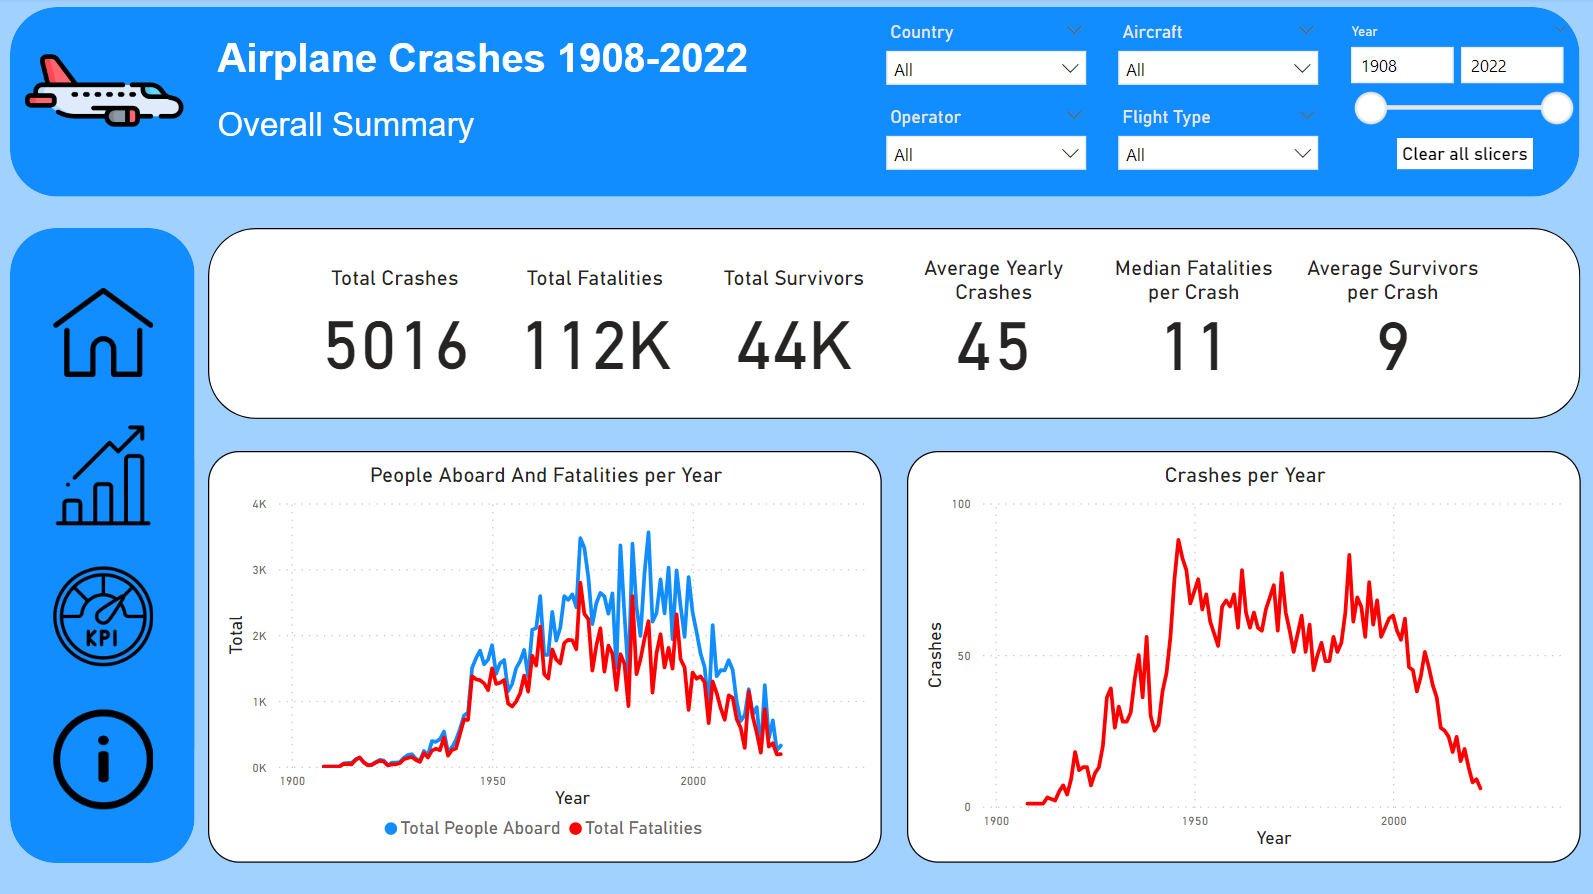

This screenshot's page, from the dashboard's own definition file:
{"tool":"powerbi","page":{"name":"Overall","canvas":[1280,720],"ordinal":0},"visuals":[{"type":"shape","box":[10,7,1258,152],"z":0},{"type":"card","title":"Total Fatalities","fields":{"Values":["Sum(Data.Fatalities)"]},"box":[398,214.3,160,100],"z":0,"group":"g1"},{"type":"image","box":[39,222,89.8,91.2],"z":0,"group":"g3"},{"type":"lineChart","title":"People Aboard And Fatalities per Year","fields":{"Y":["Sum(Data.Aboard)","Sum(Data.Fatalities)"],"Category":["Calendar.Year"]},"box":[168,363,540,330],"z":0,"group":"g2"},{"type":"shape","box":[10,184,148,509],"z":1000},{"type":"card","title":"Total Crashes","fields":{"Values":["Data.Total Crashes"]},"box":[238,214.3,160,100],"z":1000,"group":"g1"},{"type":"lineChart","title":"Crashes by Year","fields":{"Y":["Data.Total Crashes"],"Category":["Calendar.Year"]},"box":[728,363,540,330],"z":1000,"group":"g2"},{"type":"slicer","fields":{"Values":["clean (2).Country"]},"box":[701.7,14.6,179.8,60.3],"z":2000},{"type":"card","title":"Total Survivors","fields":{"Values":["Sum(Data.Survivors)"]},"box":[558,214.1,160,100],"z":2000,"group":"g1"},{"type":"image","box":[39,450,89.8,91.2],"z":2000,"group":"g3"},{"type":"slicer","fields":{"Values":["clean (2).Operator"]},"box":[701.7,82.6,179.8,60.3],"z":3000},{"type":"card","title":"Average Survivors per Crash","fields":{"Values":["Avg(Data.Survivors)"]},"box":[1038,206,160,100],"z":3000,"group":"g1"},{"type":"image","box":[39,337,90,91],"z":3000,"group":"g3"},{"type":"slicer","fields":{"Values":["clean (2).AC Type"]},"box":[888.3,14.6,179.8,60.3],"z":4000},{"type":"card","title":"Average Fatalities per Crash","fields":{"Values":["Avg(Data.Fatalities)"]},"box":[878,206,160,100],"z":4000,"group":"g1"},{"type":"image","box":[39.2,564,89.5,91],"z":4000,"group":"g3"},{"type":"shape","box":[168,184,1100,153],"z":5000},{"type":"card","title":"Average Yearly Crashes","fields":{"Values":["Data.Average Crashes"]},"box":[718,206,160,100],"z":5000,"group":"g1"},{"type":"slicer","fields":{"Values":["Calendar.Year"]},"box":[1071.2,15,198.8,98.8],"z":6000},{"type":"slicer","fields":{"Values":["Data.Column"]},"box":[887.9,82.3,180.3,60.8],"z":7000},{"type":"textbox","box":[171,82,228,50],"z":8000},{"type":"actionButton","box":[1121,112,109,25],"z":9000},{"type":"image","box":[14,6,143,137],"z":10000},{"type":"textbox","box":[171,26,454,49],"z":11000},{"type":"group","id":"g1","title":"Group 1","box":[238,206,960,108],"z":12000},{"type":"group","id":"g2","title":"Group 2","box":[168,363,1100,330],"z":13000},{"type":"group","id":"g3","title":"Group 3","box":[39,222,90,433],"z":14000}]}

Visuals, with their boxes in screenshot pixels (x1, y1, x2, y2), scaled from the page's 1280x720 canvas onto the 1593x894 screenshot:
shape: box(12, 9, 1578, 197)
"Total Fatalities" card: box(495, 266, 694, 390)
image: box(49, 276, 160, 389)
"People Aboard And Fatalities per Year" lineChart: box(209, 451, 881, 860)
shape: box(12, 228, 197, 860)
"Total Crashes" card: box(296, 266, 495, 390)
"Crashes by Year" lineChart: box(906, 451, 1578, 860)
slicer - clean (2).Country: box(873, 18, 1097, 93)
"Total Survivors" card: box(694, 266, 894, 390)
image: box(49, 559, 160, 672)
slicer - clean (2).Operator: box(873, 103, 1097, 177)
"Average Survivors per Crash" card: box(1292, 256, 1491, 380)
image: box(49, 418, 161, 531)
slicer - clean (2).AC Type: box(1106, 18, 1329, 93)
"Average Fatalities per Crash" card: box(1093, 256, 1292, 380)
image: box(49, 700, 160, 813)
shape: box(209, 228, 1578, 418)
"Average Yearly Crashes" card: box(894, 256, 1093, 380)
slicer - Calendar.Year: box(1333, 19, 1581, 141)
slicer - Data.Column: box(1105, 102, 1329, 178)
textbox: box(213, 102, 497, 164)
actionButton: box(1395, 139, 1531, 170)
image: box(17, 7, 195, 178)
textbox: box(213, 32, 778, 93)
"Group 1" group: box(296, 256, 1491, 390)
"Group 2" group: box(209, 451, 1578, 860)
"Group 3" group: box(49, 276, 161, 813)
